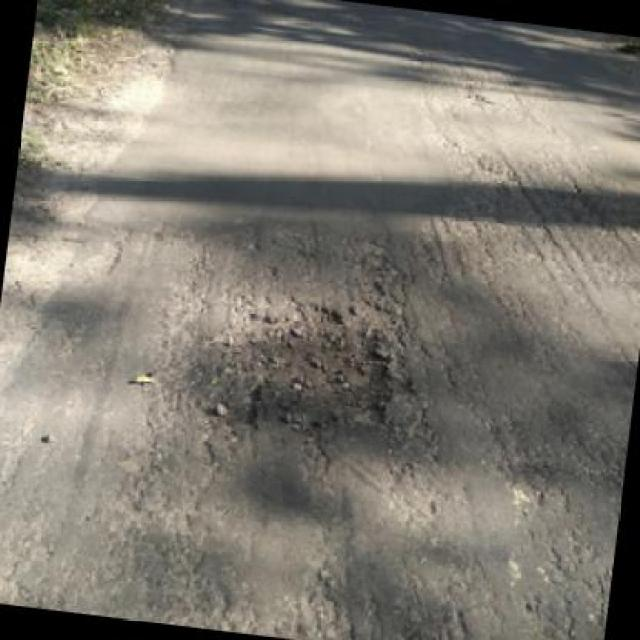pothole1: (205, 286, 408, 445)
